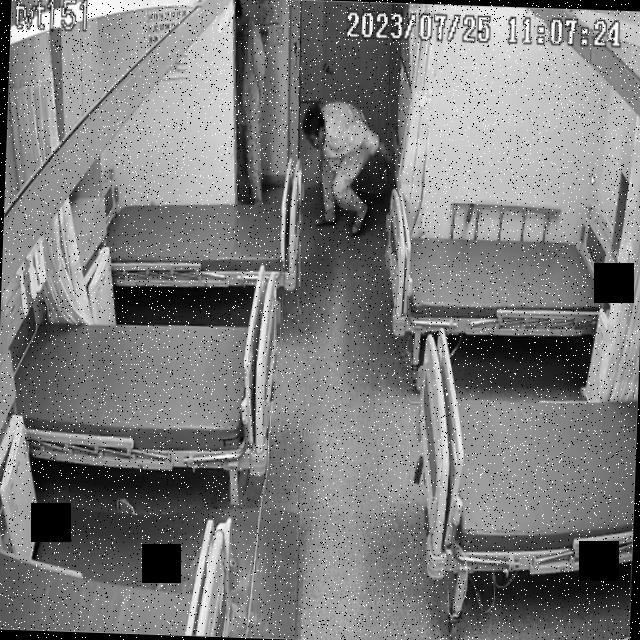bed: (412, 328, 640, 580), (9, 307, 278, 469), (382, 215, 620, 342), (106, 185, 298, 290)
danger: (300, 98, 376, 229)
patient: (298, 94, 378, 233), (225, 0, 271, 203)
stand: (226, 0, 271, 202)
